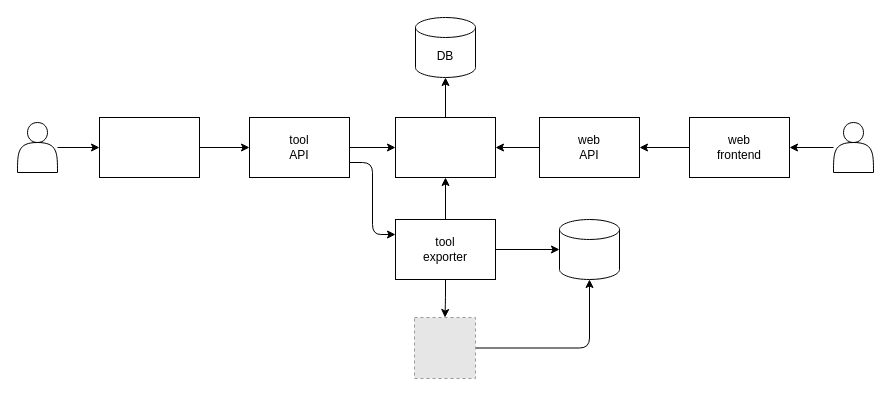
Image size: 891x396. Some labels were removed from this diagram. Grey dashed boxes stand in for pictures. The centre of each missing label's shape, as x and y in pixels:
file: (x=589, y=249)
repository API: (x=445, y=147)
tool frontend: (x=149, y=147)
